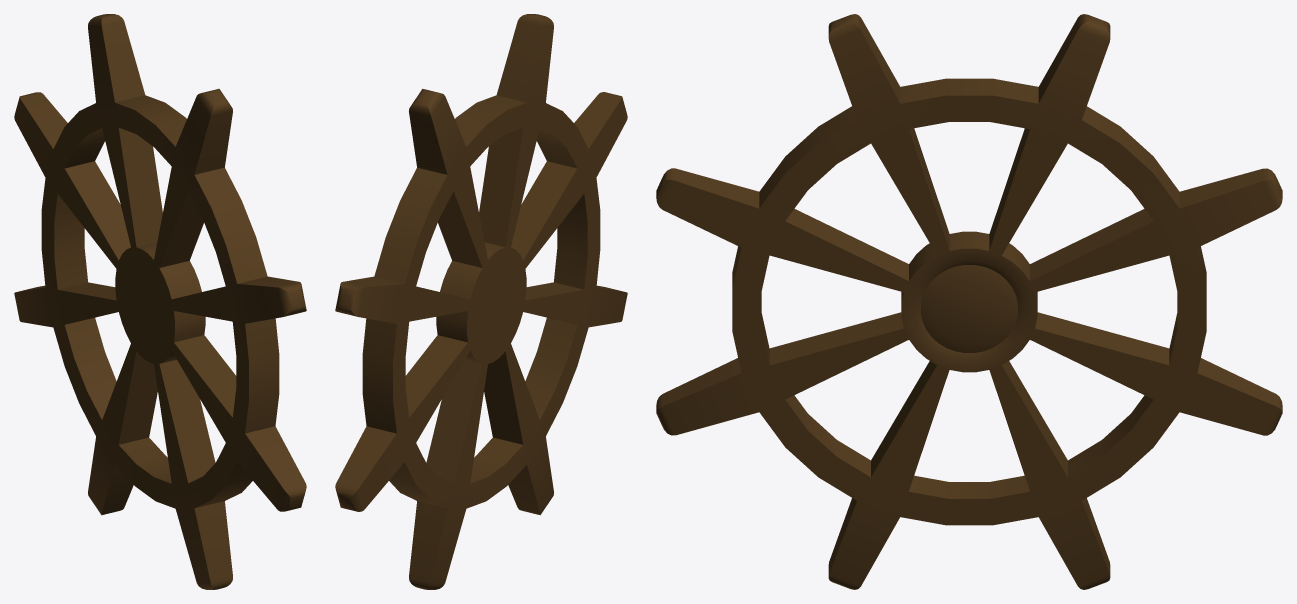
Rendered from boatSteeringWheel.fbx.
3 views of the same model, side by side, from view 1: azimuth 30°, elevation 25°; view 2: azimuth 150°, elevation 25°; view 3: azimuth 270°, elevation 25° (orthographic). The views are drawn at different scales.
Visible parts, largest first — view 1: Boat Steering Wheel; view 2: Boat Steering Wheel; view 3: Boat Steering Wheel.
Boxes of the visible parts, x1=… form: Boat Steering Wheel: x1=14, y1=14, x2=306, y2=589; Boat Steering Wheel: x1=335, y1=14, x2=627, y2=589; Boat Steering Wheel: x1=656, y1=14, x2=1282, y2=589.
Size of the model in its own units: 86.16 by 5.59 by 86.16.
